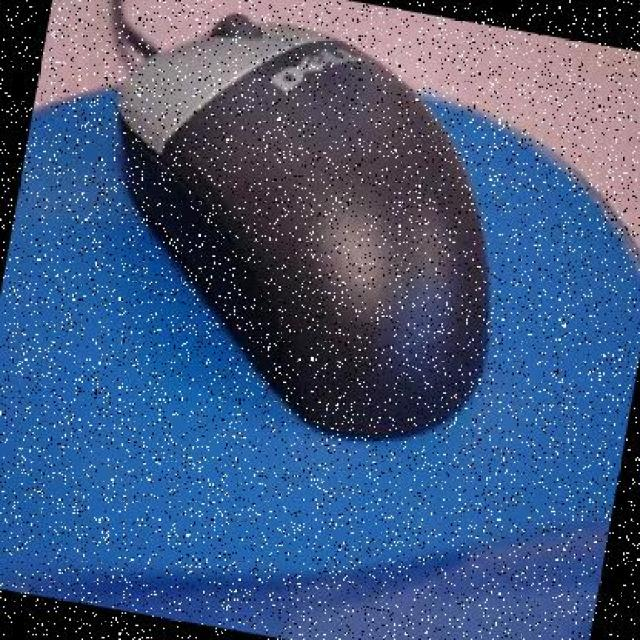mause: (43, 0, 575, 489)
